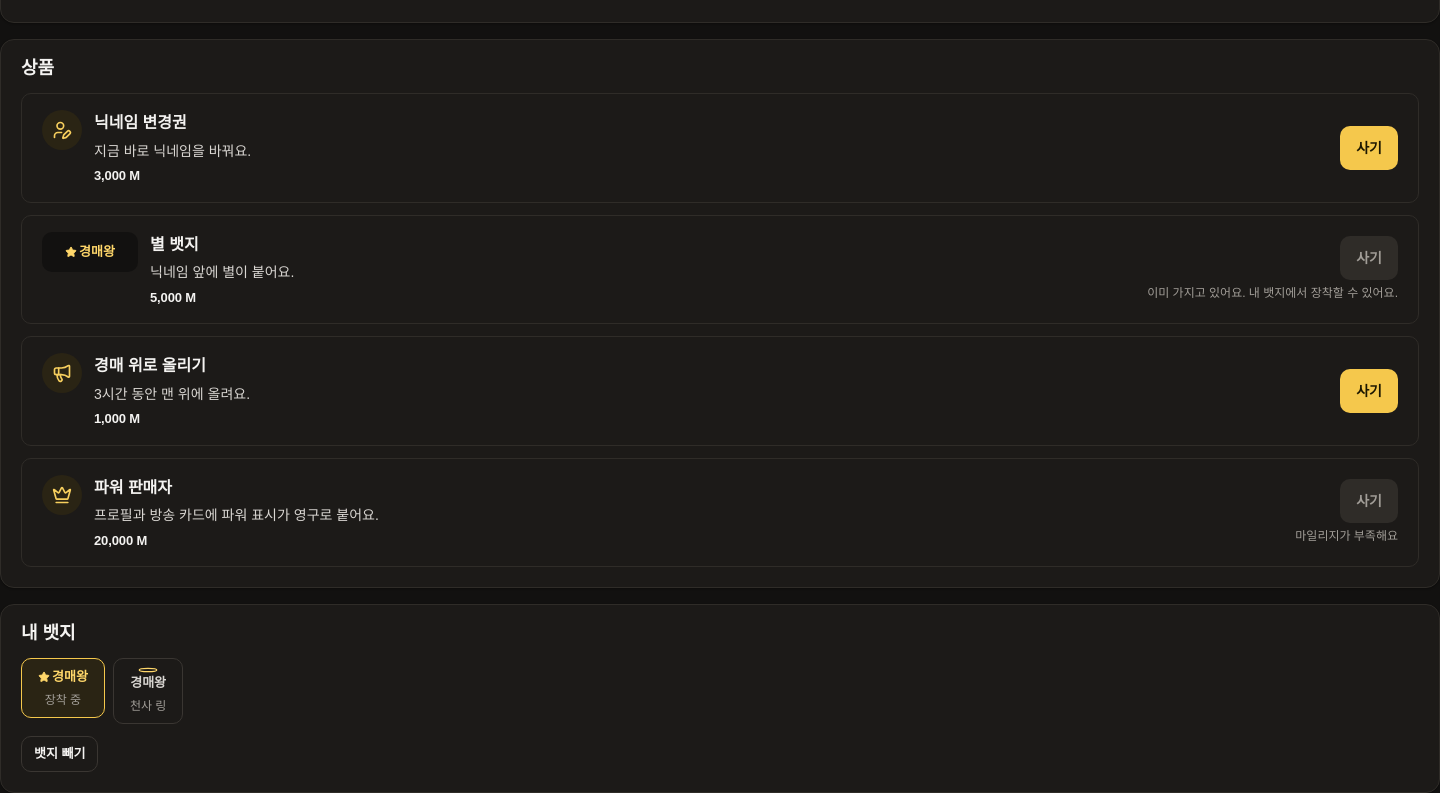
Test: ShopPage › 내 뱃지에서 다른 뱃지로 바꿔 끼거나 뺄 수 있다
(page scrolled)
Step 1. Click the button with aria-label "천사 링 장착" → (148, 691), box 113,658 -> 183,724
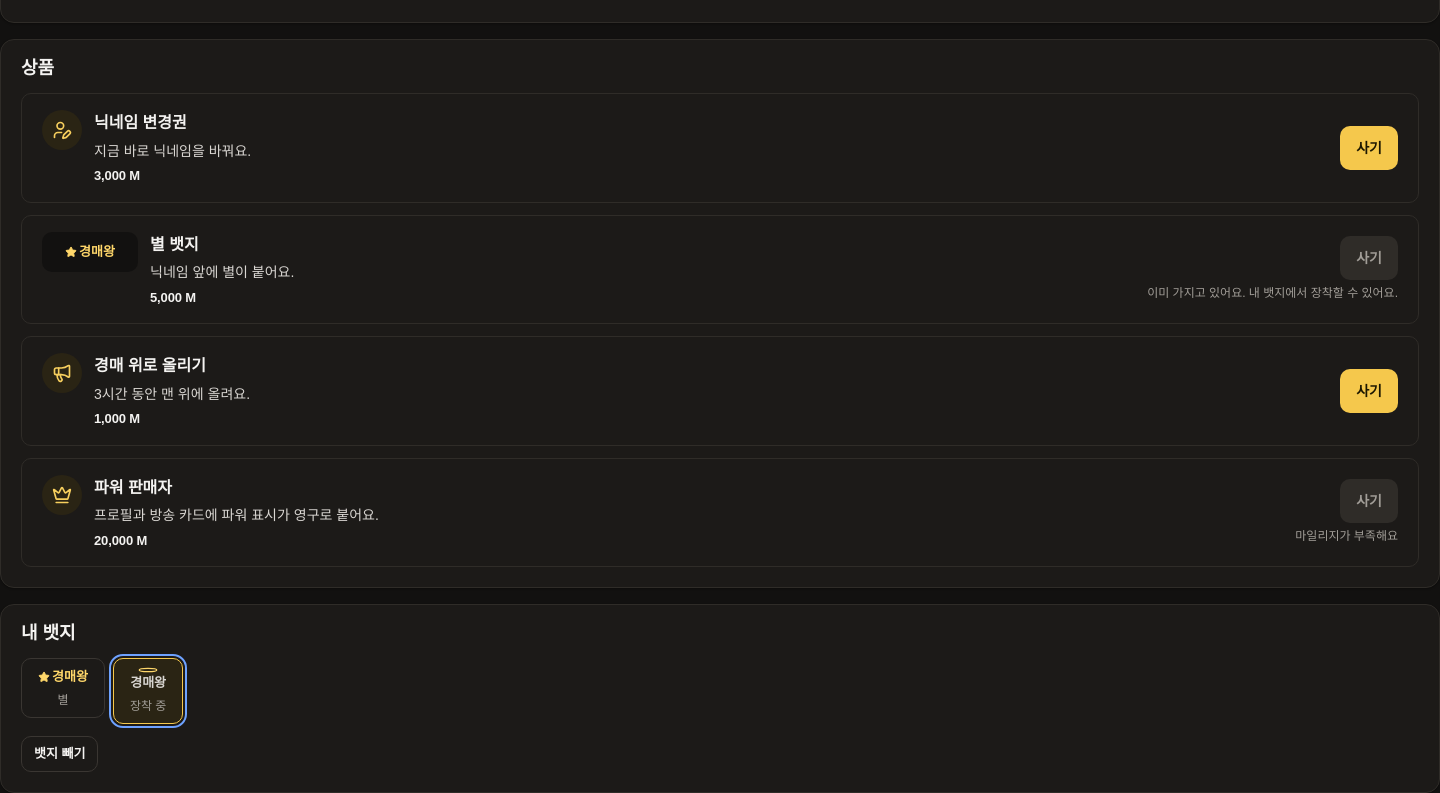
Step 2. Click the button "뱃지 빼기" → (60, 754), box 21,736 -> 98,772
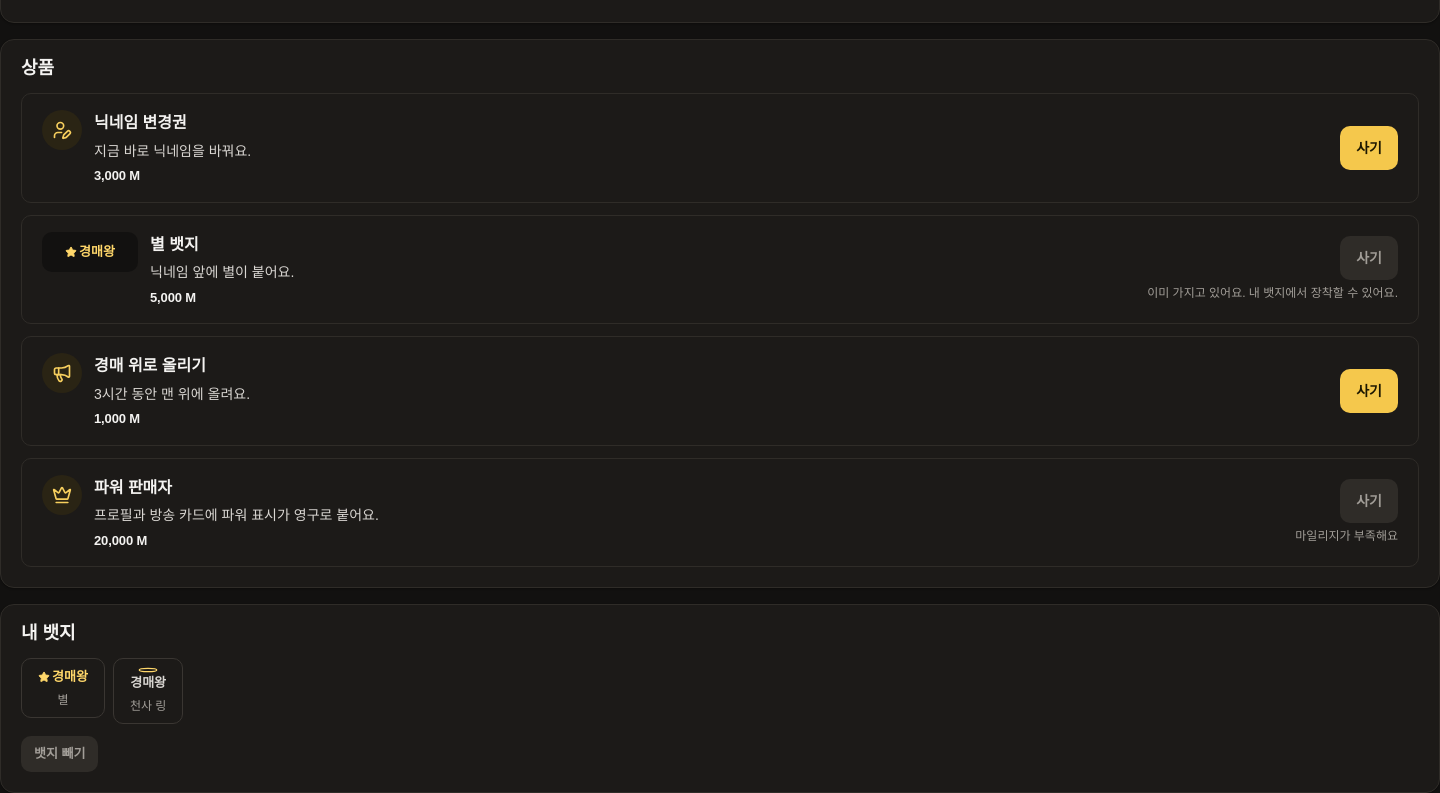
Check: the button "뱃지 빼기" is disabled, box 21,736 -> 98,772
